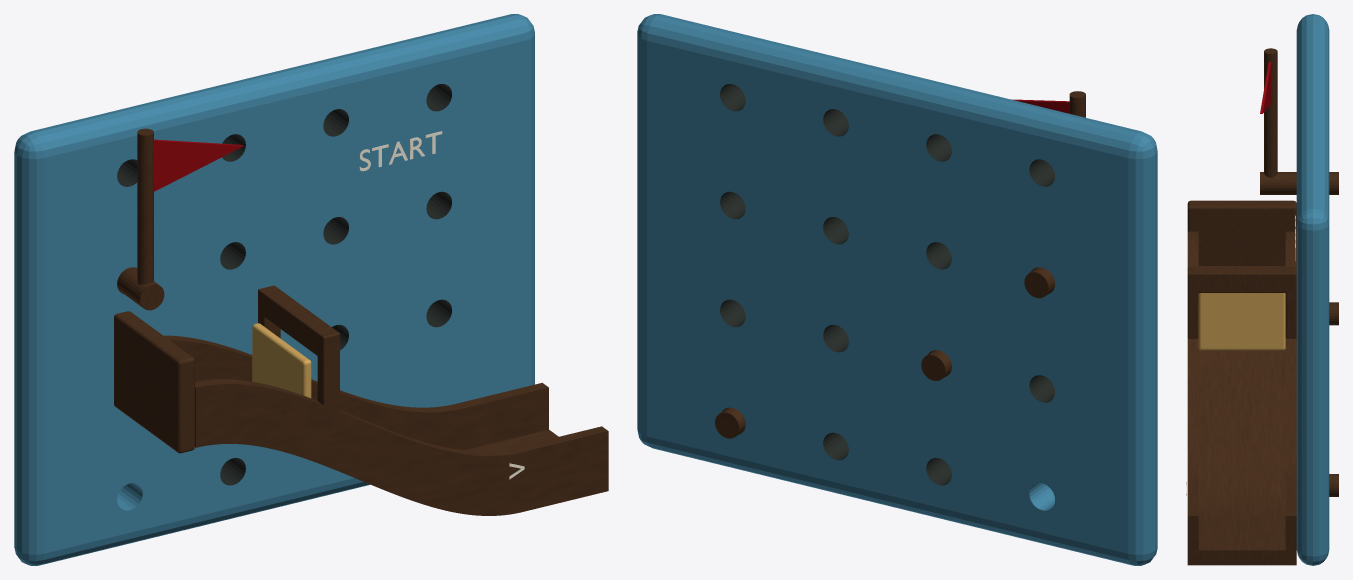
The model's file is start.glb.
3 renders of one model, left to right at view 1: azimuth 30°, elevation 25°; view 2: azimuth 150°, elevation 25°; view 3: azimuth 270°, elevation 25°, orthographic. The views are drawn at different scales.
Parts seen in each view (by area): view 1: Start_SmallPegboard, Start_Rail, Start_Backstop, Start_FlagPole, Start_Gate, Start_Flag, Start_Mark; view 2: Start_SmallPegboard, Start_Rail, Start_FlagPole; view 3: Start_Rail, Start_SmallPegboard, Start_Backstop, Start_Gate, Start_FlagPole, Start_Flag.
Boxes of the visible parts, left/top/right/bottom form: Start_SmallPegboard: left=14, top=14, right=534, bottom=565; Start_Rail: left=164, top=285, right=608, bottom=515; Start_Backstop: left=114, top=311, right=194, bottom=453; Start_FlagPole: left=117, top=128, right=164, bottom=310; Start_Gate: left=252, top=323, right=311, bottom=398; Start_Flag: left=154, top=139, right=243, bottom=191; Start_Mark: left=359, top=131, right=442, bottom=171; Start_SmallPegboard: left=637, top=14, right=1157, bottom=565; Start_Rail: left=715, top=350, right=951, bottom=438; Start_FlagPole: left=1024, top=91, right=1085, bottom=298; Start_Rail: left=1187, top=231, right=1338, bottom=565; Start_SmallPegboard: left=1296, top=14, right=1329, bottom=565; Start_Backstop: left=1187, top=200, right=1296, bottom=265; Start_Gate: left=1198, top=293, right=1285, bottom=350; Start_FlagPole: left=1260, top=48, right=1338, bottom=194; Start_Flag: left=1260, top=61, right=1271, bottom=113.
Bounding box in the file's own units: 0.36 × 0.288 × 0.1123.
8 materials, 3 textured.
